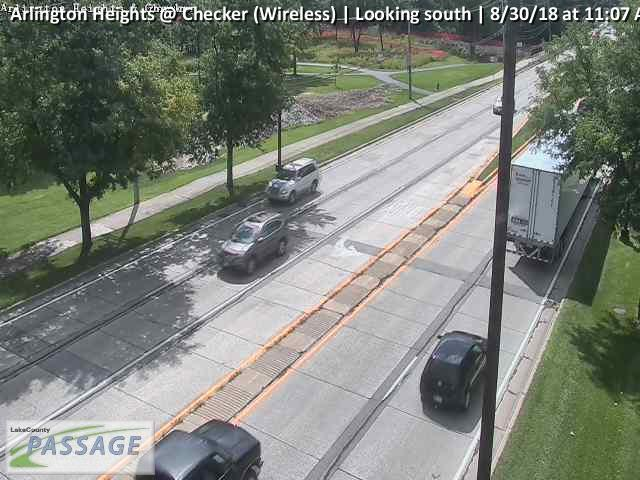SUV: (123, 419, 263, 480), (219, 210, 289, 272), (266, 158, 319, 204)
Sedan: (418, 329, 490, 411)
Truck: (507, 100, 603, 264)
